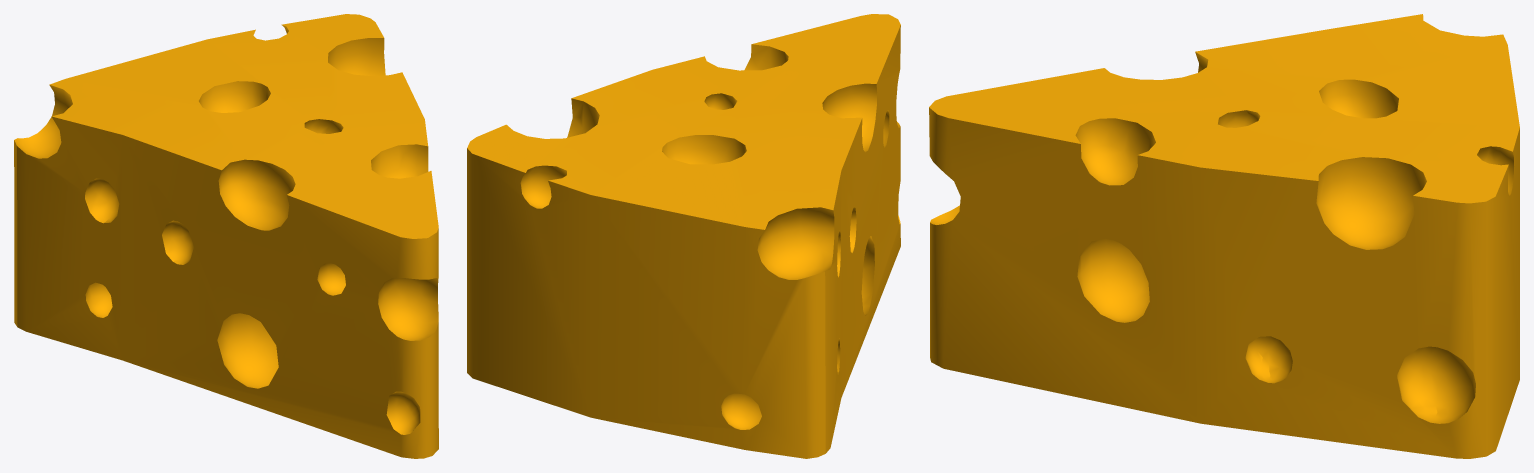
The model's file is cheese_low_poly.glb.
3 renders of one model, left to right at view 1: azimuth 30°, elevation 25°; view 2: azimuth 150°, elevation 25°; view 3: azimuth 270°, elevation 25°, orthographic. The views are drawn at different scales.
Visible parts, largest first — view 1: cheese; view 2: cheese; view 3: cheese.
Boxes of the visible parts, bbox=[...] form: cheese: bbox=[14, 14, 438, 458]; cheese: bbox=[467, 14, 900, 458]; cheese: bbox=[929, 14, 1519, 458].
Size of the model in its own units: 157 by 95.9 by 198.
1 material, 1 textured.
